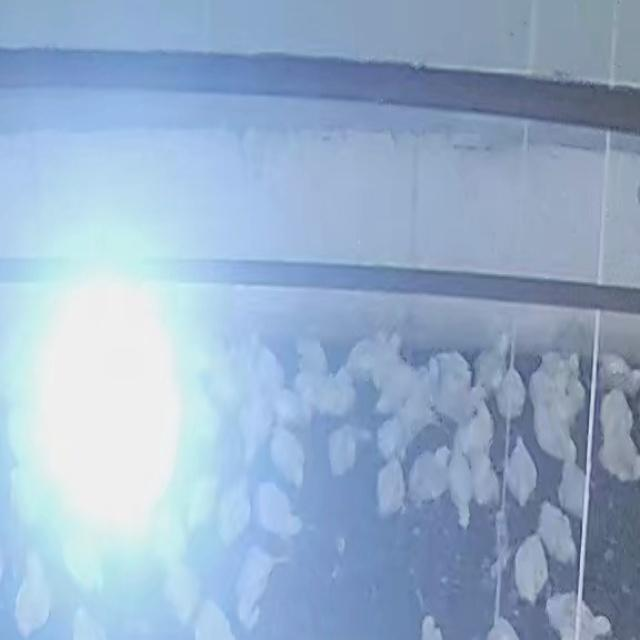chicken: (233, 550, 288, 621), (549, 594, 616, 640), (372, 405, 431, 454), (18, 550, 50, 634), (533, 401, 579, 457), (258, 482, 299, 538), (410, 450, 451, 505), (372, 458, 409, 518), (539, 503, 575, 561), (513, 533, 543, 600), (327, 362, 364, 415), (352, 331, 391, 381), (240, 395, 270, 459), (558, 456, 589, 517), (450, 451, 475, 525), (599, 435, 640, 480), (505, 439, 534, 502), (467, 453, 500, 508), (219, 480, 250, 538), (331, 429, 370, 474), (275, 429, 305, 487), (597, 392, 640, 431), (528, 357, 562, 403), (476, 339, 509, 386), (267, 392, 306, 430), (460, 405, 492, 449), (412, 358, 439, 408), (377, 339, 408, 382), (494, 373, 522, 420), (446, 389, 489, 418), (438, 351, 469, 390), (196, 599, 225, 640), (385, 372, 418, 407), (566, 355, 585, 408)
